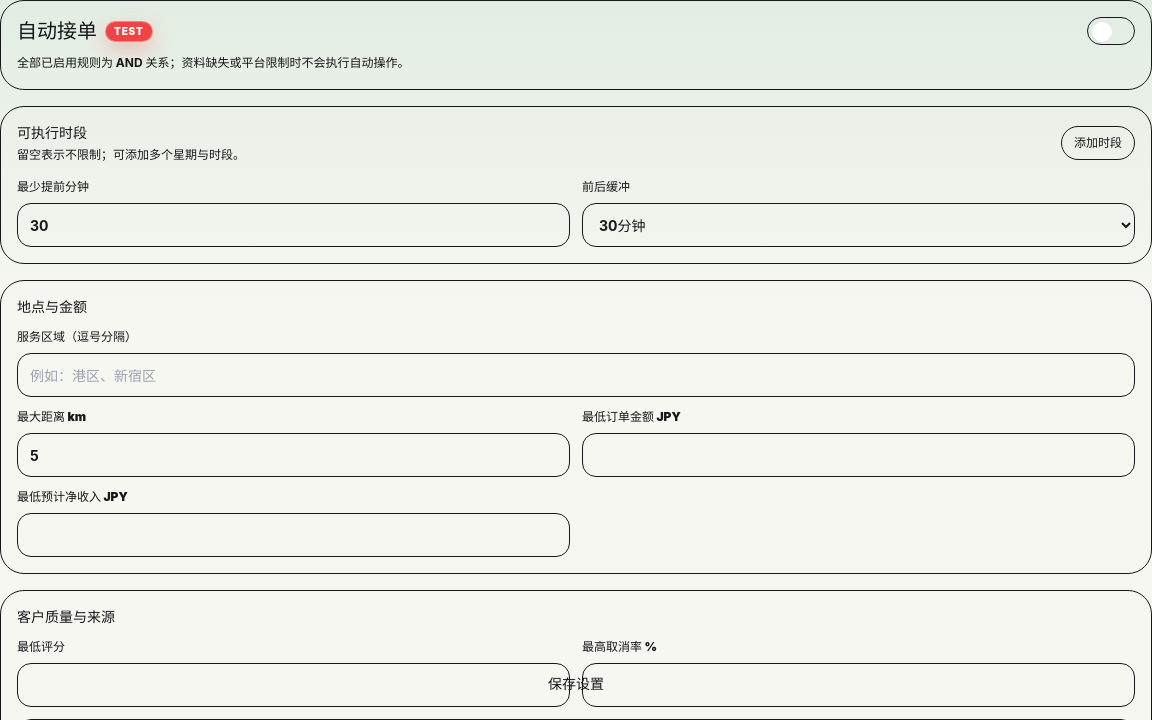
it: TechnicianAutomationSettingsPanel › keeps save highlighted and handles an unchanged setting without a write
Click the button with test id "automation-save": click(576, 684) x1=112 y1=660 x2=1040 y2=708
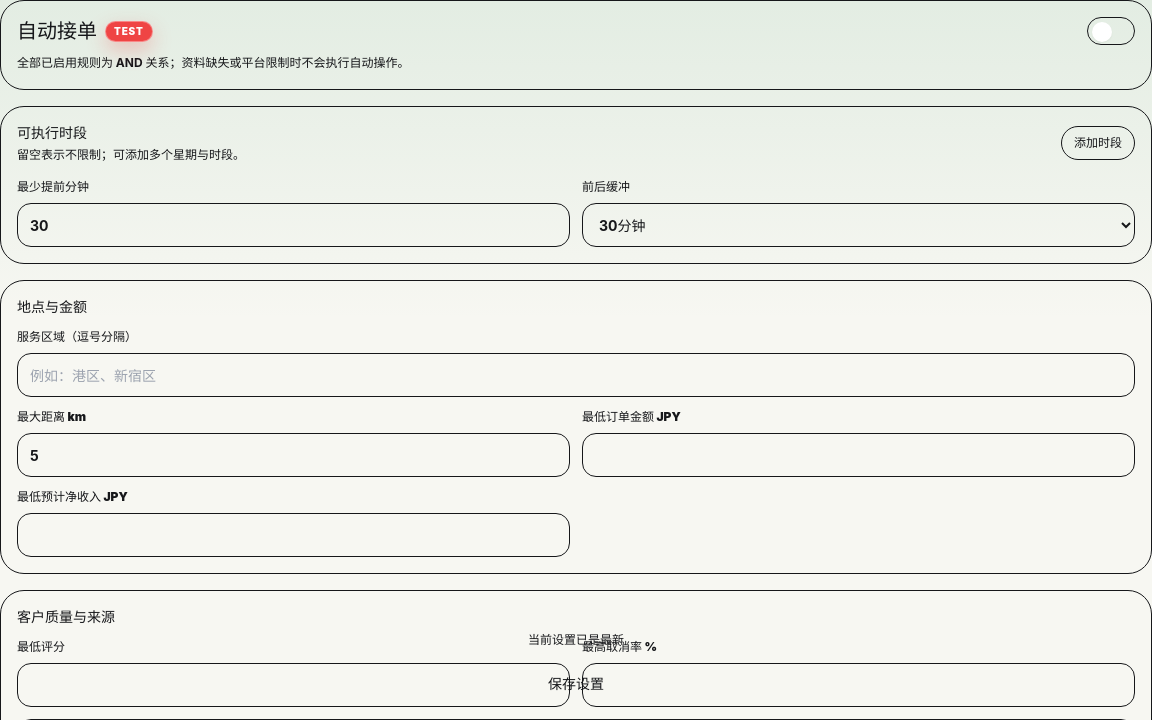
Result: the text "当前设置已是最新" is shown at x1=528 y1=632 x2=624 y2=647
